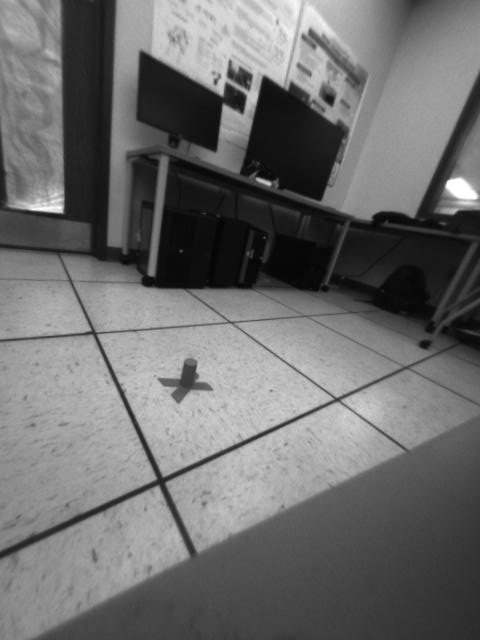X: (157, 357, 214, 404)
